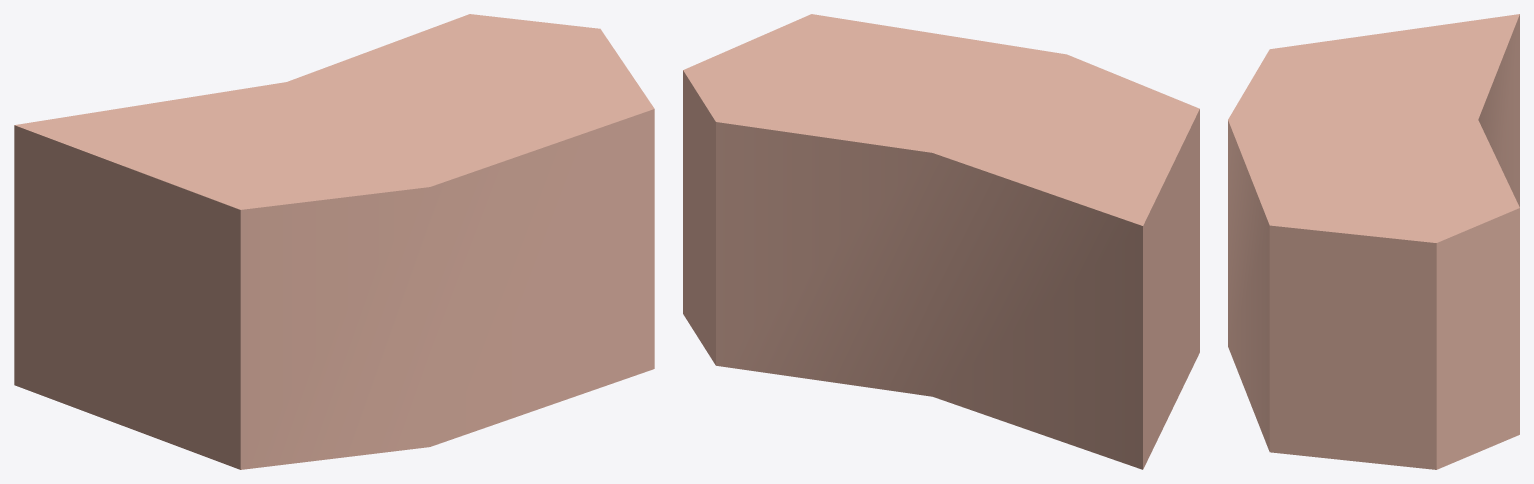
Rendered from granite.gltf.
The picture shows the model from 3 angles, left to right: view 1: azimuth 30°, elevation 25°; view 2: azimuth 150°, elevation 25°; view 3: azimuth 270°, elevation 25°; orthographic projection. The views are drawn at different scales.
Parts seen in each view (by area): view 1: granite; view 2: granite; view 3: granite.
Part boxes in pixels (<box>): granite: <box>14,14,654,469</box>; granite: <box>683,14,1199,469</box>; granite: <box>1228,14,1519,469</box>.
Size of the model in its own units: 0.26 by 0.12 by 0.14.
